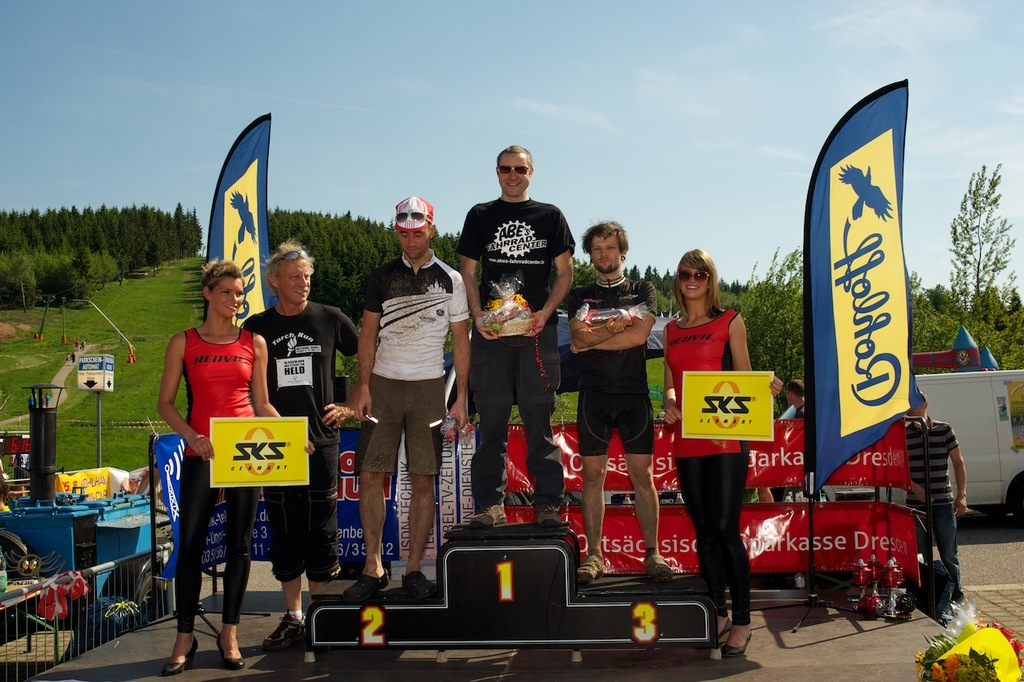Person: (156, 144, 786, 677), (903, 390, 967, 608), (778, 380, 807, 588)
